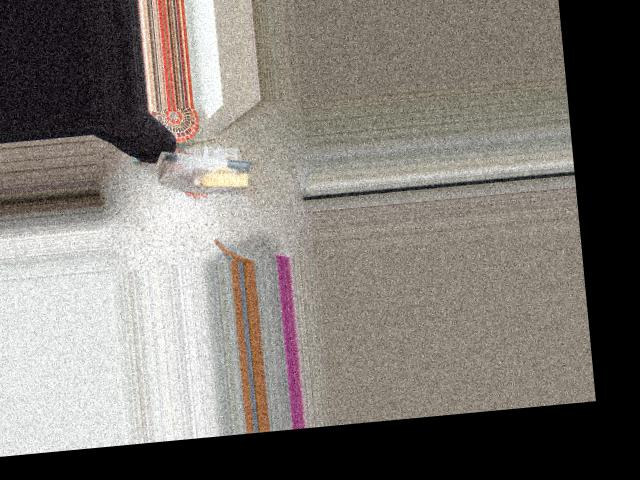cheese: (150, 140, 253, 200)
